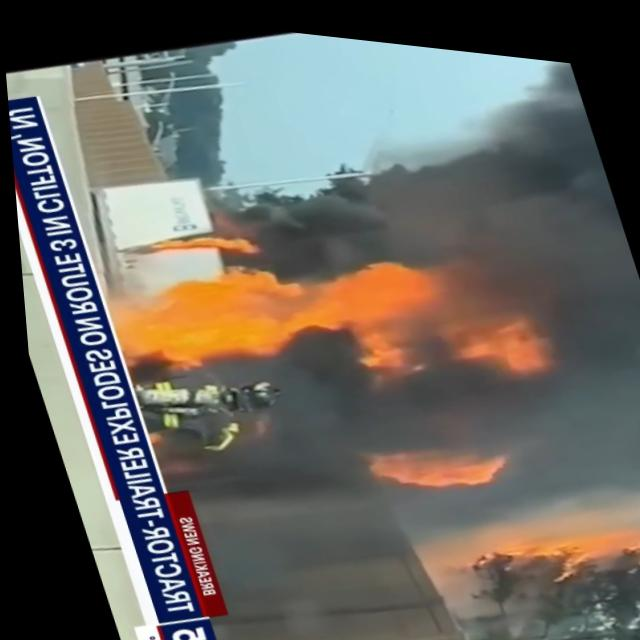Fire: (273, 193, 567, 421), (97, 252, 297, 393), (462, 482, 640, 613), (359, 413, 509, 503)
